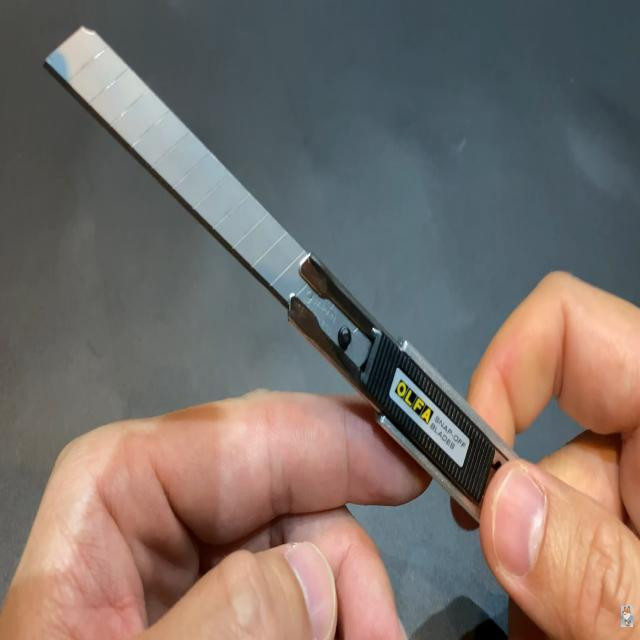cutter: (29, 0, 640, 604)
